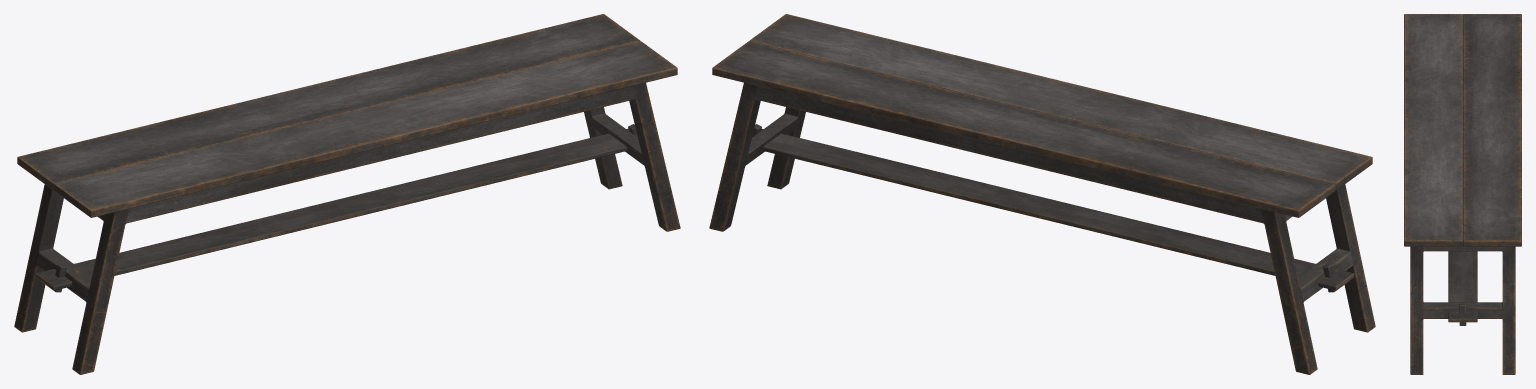
Rendered from bench.glb.
3 renders of one model, left to right at view 1: azimuth 30°, elevation 25°; view 2: azimuth 150°, elevation 25°; view 3: azimuth 270°, elevation 25°, orthographic. The views are drawn at different scales.
Parts seen in each view (by area): view 1: bench; view 2: bench; view 3: bench.
Boxes of the visible parts, <box> form: bench: <box>14,14,680,374</box>; bench: <box>709,14,1375,374</box>; bench: <box>1404,14,1521,374</box>.
Size of the model in its own units: 1 by 0.2613 by 0.2119.
Materials: 1 (1 with a texture image).
